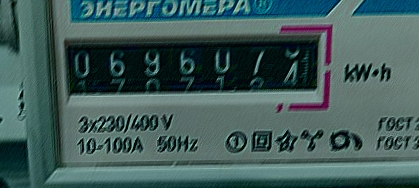0: (70, 48, 92, 79), (212, 45, 232, 74)
4: (280, 59, 299, 88)
6: (176, 45, 197, 77), (106, 48, 126, 77)
7: (247, 43, 266, 75)
9: (141, 47, 162, 76)
screen: (52, 18, 337, 115)
